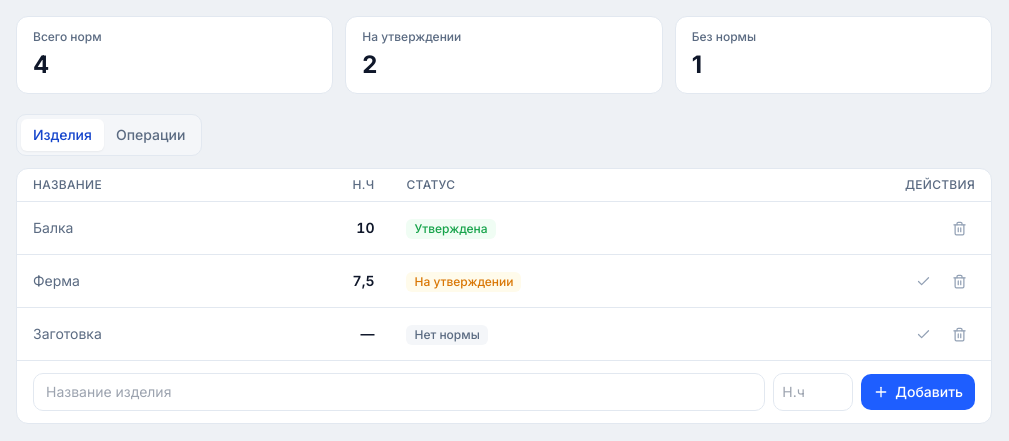
Scenario: NormsTable › переключение на «Операции» фильтрует строки по виду (real filterByKind)
Expected: the text "Балка" is shown, x1=17 y1=202 x2=260 y2=254
Click the button "Операции".
click(151, 135)  # box x1=104 y1=119 x2=197 y2=151
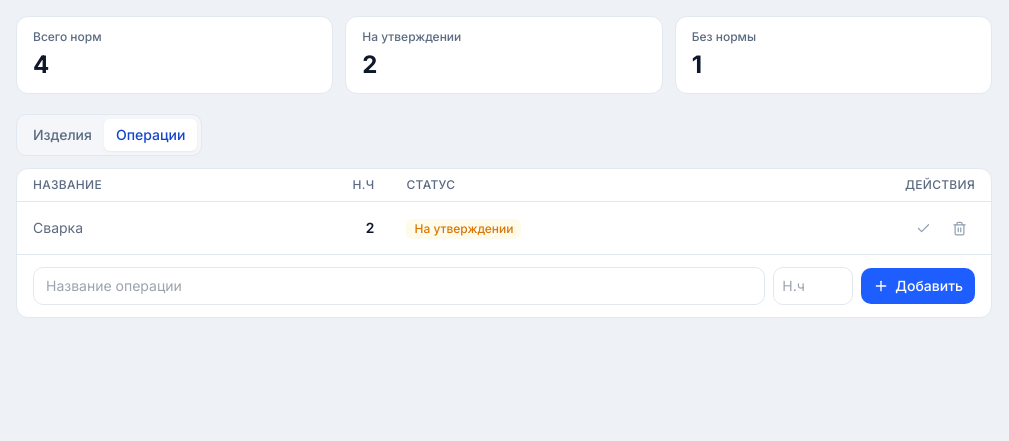
Result: the text "Сварка" is shown at x1=17 y1=202 x2=260 y2=254
Result: the text "Балка" is gone
Result: the text "Ферма" is gone
